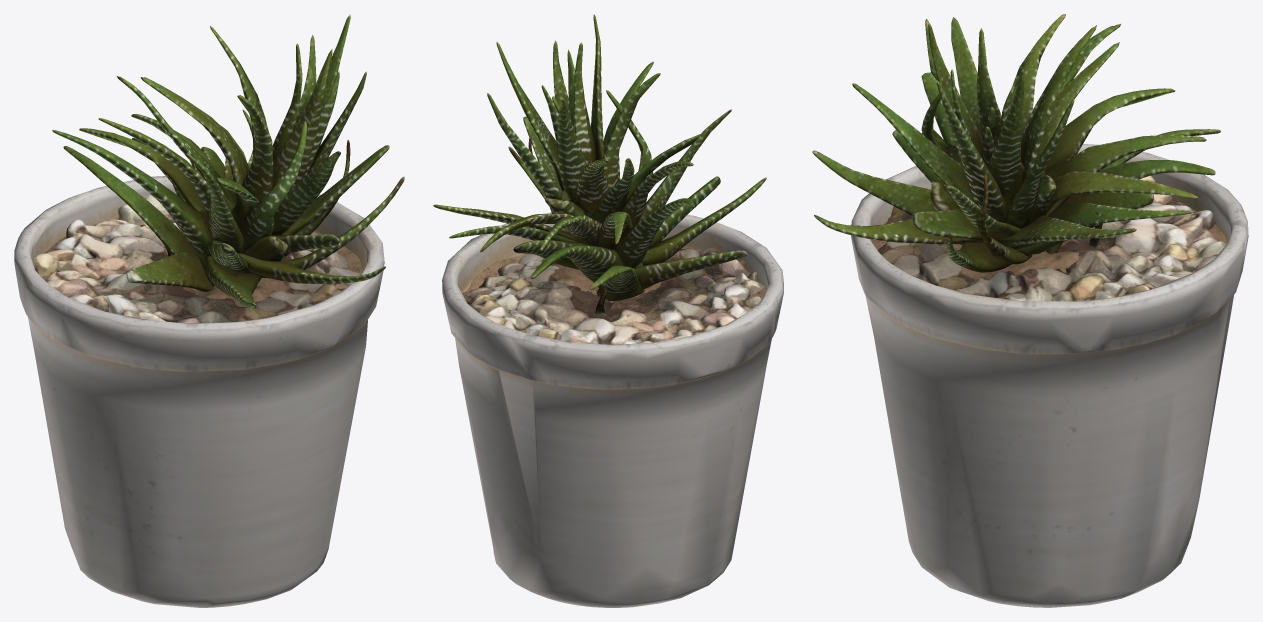
The picture shows the model from 3 angles, left to right: view 1: azimuth 30°, elevation 25°; view 2: azimuth 150°, elevation 25°; view 3: azimuth 270°, elevation 25°; orthographic projection. The views are drawn at different scales.
Visible parts, largest first — view 1: potted_plant_04; view 2: potted_plant_04; view 3: potted_plant_04.
Boxes of the visible parts, bbox=[...] form: potted_plant_04: bbox=[14, 14, 404, 607]; potted_plant_04: bbox=[433, 14, 783, 607]; potted_plant_04: bbox=[812, 14, 1248, 607].
Size of the model in its own units: 0.1881 by 0.3 by 0.2064.
Materials: 1 (1 with a texture image).
